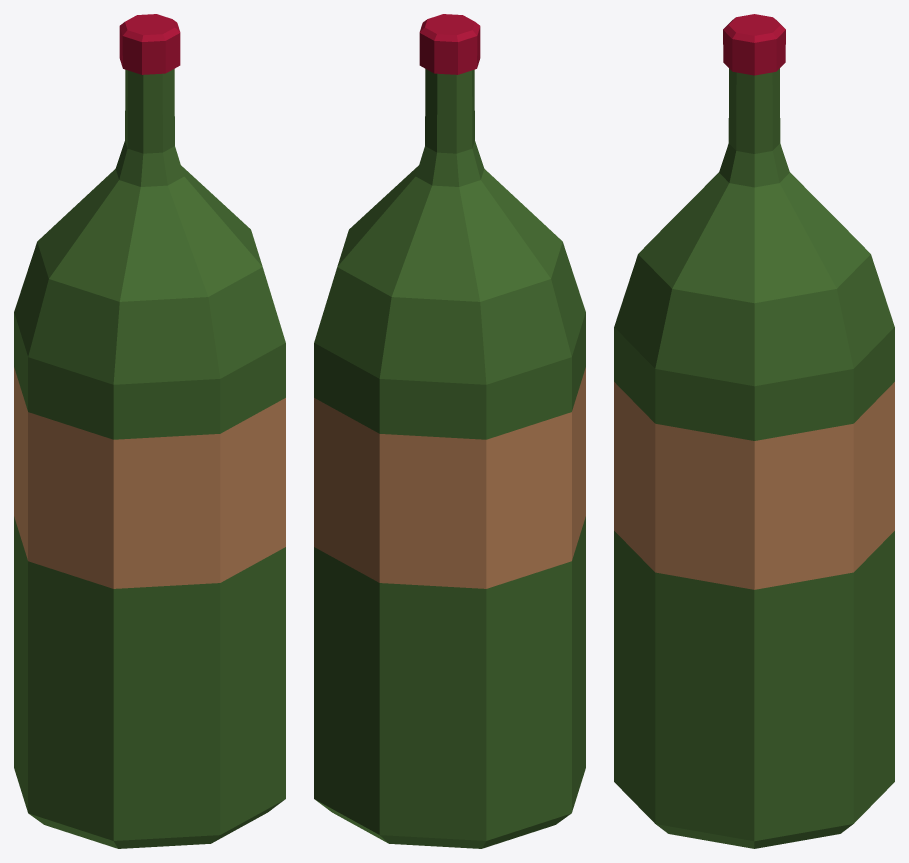
Rendered from bouteilleVInCasse.fbx.
3 renders of one model, left to right at view 1: azimuth 30°, elevation 25°; view 2: azimuth 150°, elevation 25°; view 3: azimuth 270°, elevation 25°, orthographic.
Visible parts, largest first — view 1: Cylinder.015, Cylinder.014; view 2: Cylinder.014, Cylinder.015; view 3: Cylinder.014, Cylinder.015.
Part boxes in pixels (box(x1,y1,x2,y2)): Cylinder.015: box(14, 14, 285, 556); Cylinder.014: box(14, 417, 285, 848); Cylinder.014: box(314, 442, 585, 848); Cylinder.015: box(314, 14, 585, 509); Cylinder.014: box(614, 403, 894, 848); Cylinder.015: box(614, 14, 894, 504).
Size of the model in its own units: 59.06 by 179 by 59.06.
Materials: 1 (1 with a texture image).
